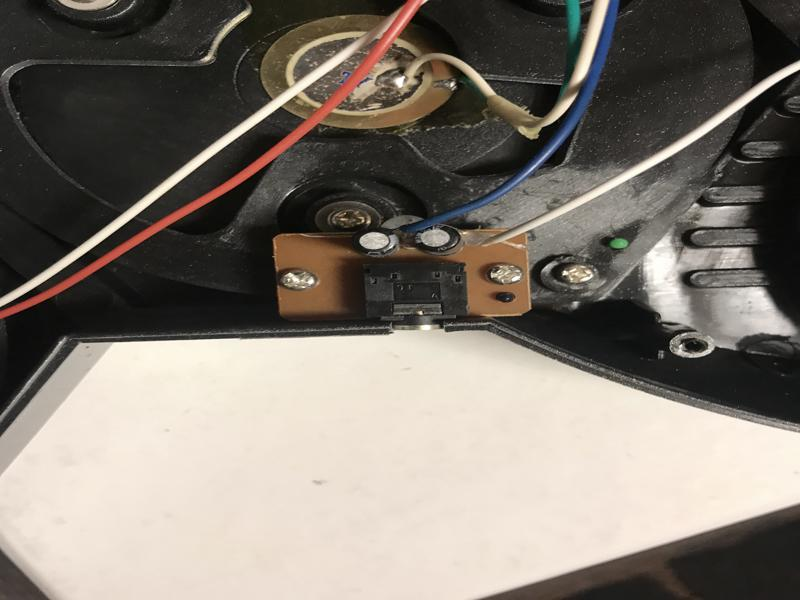Capacitor: (350, 224, 401, 258), (413, 221, 462, 256)
